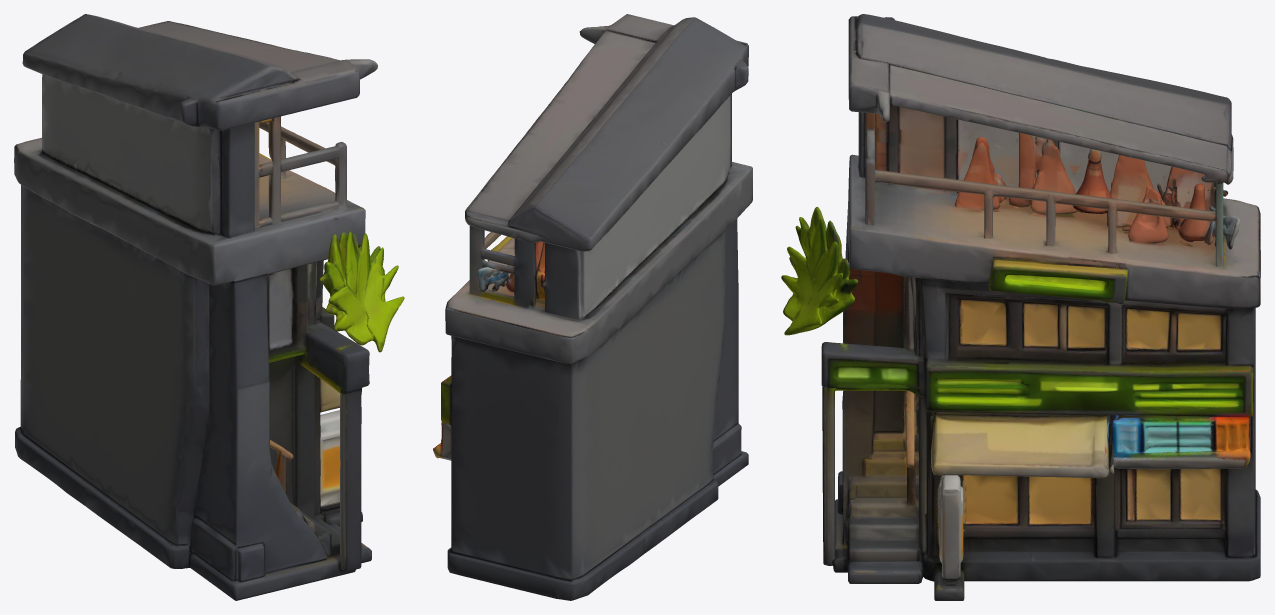
Rendered from agave.glb.
3 views of the same model, side by side, from view 1: azimuth 30°, elevation 25°; view 2: azimuth 150°, elevation 25°; view 3: azimuth 270°, elevation 25° (orthographic). The views are drawn at different scales.
Visible parts, largest first — view 1: tripo_node_ade2fa4c-58bc-4f89-9263-fac112773620; view 2: tripo_node_ade2fa4c-58bc-4f89-9263-fac112773620; view 3: tripo_node_ade2fa4c-58bc-4f89-9263-fac112773620.
Boxes of the visible parts, <box> form: tripo_node_ade2fa4c-58bc-4f89-9263-fac112773620: <box>14,14,404,600</box>; tripo_node_ade2fa4c-58bc-4f89-9263-fac112773620: <box>433,14,752,600</box>; tripo_node_ade2fa4c-58bc-4f89-9263-fac112773620: <box>781,14,1260,600</box>.
Bounding box in the file's own units: 0.4169 × 1 × 0.8455.
Materials: 1 (1 with a texture image).
